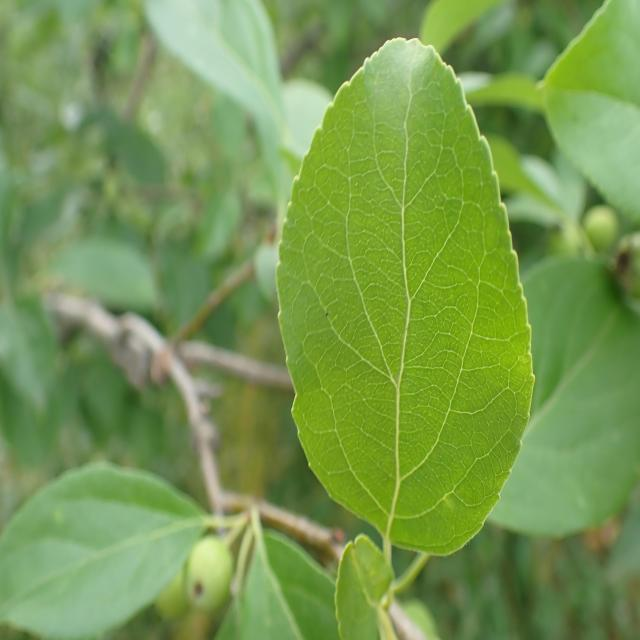healthy: (275, 35, 535, 556), (486, 255, 640, 538), (0, 460, 208, 640), (535, 0, 640, 221), (216, 528, 340, 640)
